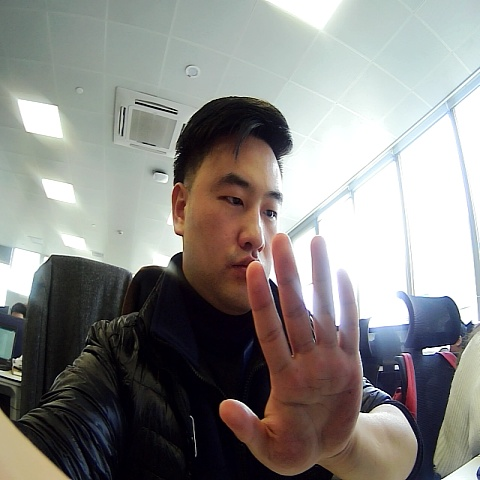palm: (212, 227, 364, 476)
